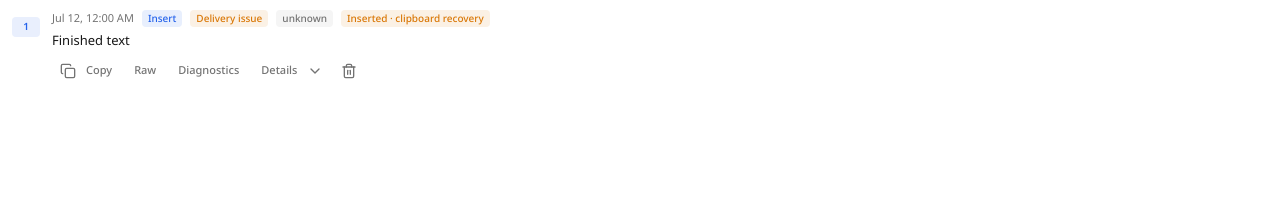
Scenario: TranscriptionItem › explains the inserted_clipboard_warning delivery state in history
Check: the text "Inserted · clipboard recovery" is shown, box [341,10,490,27]
Click the button "Details": point(292, 70) [253,58,332,82]
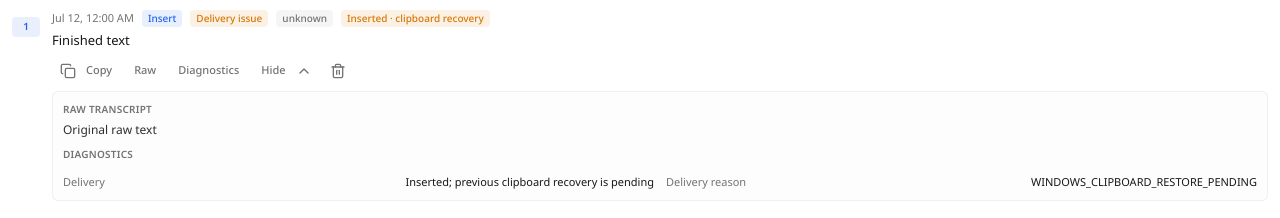
Check: the text "Delivery" is shown, box [63,174,105,190]
Check: the text "Delivery reason" is shown, box [666,174,746,190]
Check: the text "WINDOWS_CLIPBOARD_RESTORE_PENDING" is shown, box [1031,174,1257,190]
